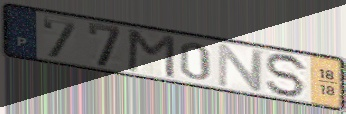0: (177, 41, 214, 81)
7: (86, 21, 124, 69), (41, 14, 79, 60)
M: (124, 28, 177, 81)
N: (216, 42, 266, 93)
S: (263, 53, 310, 100)
